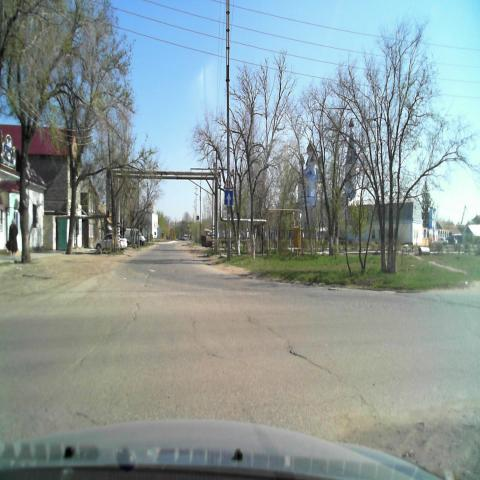1_21: (223, 174, 233, 188)
